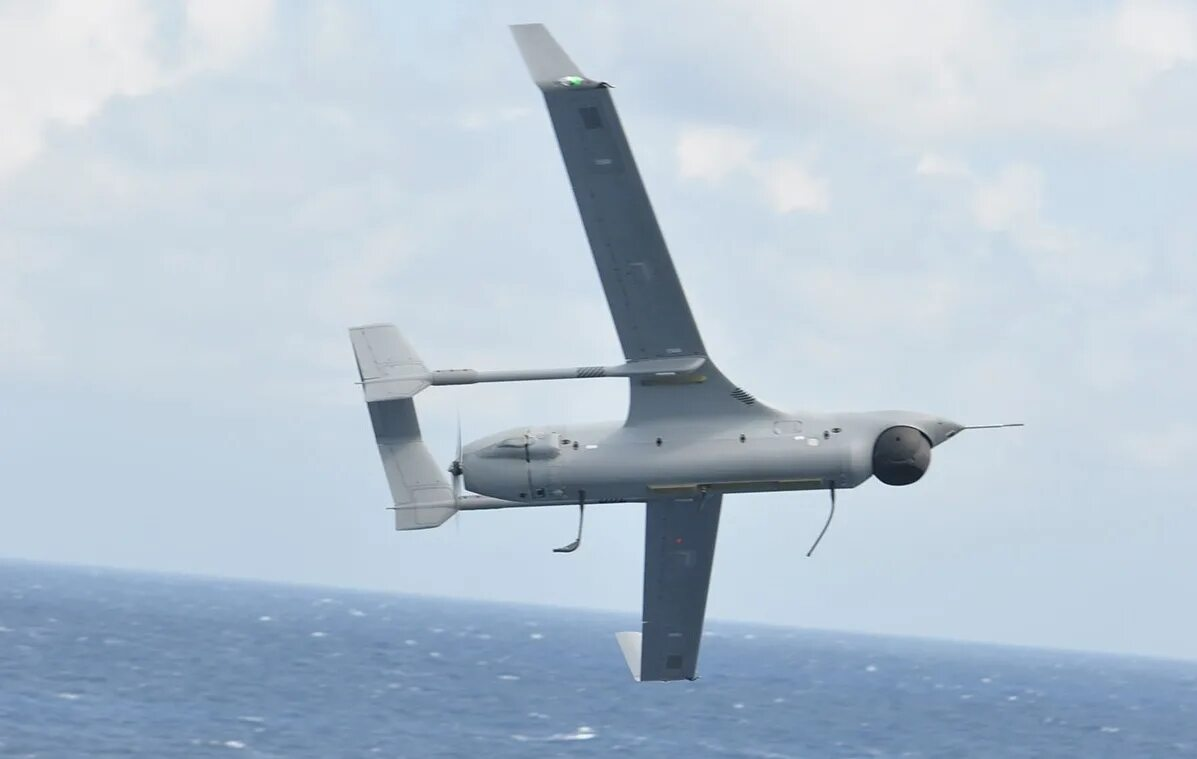military drone: (349, 24, 1023, 681)
